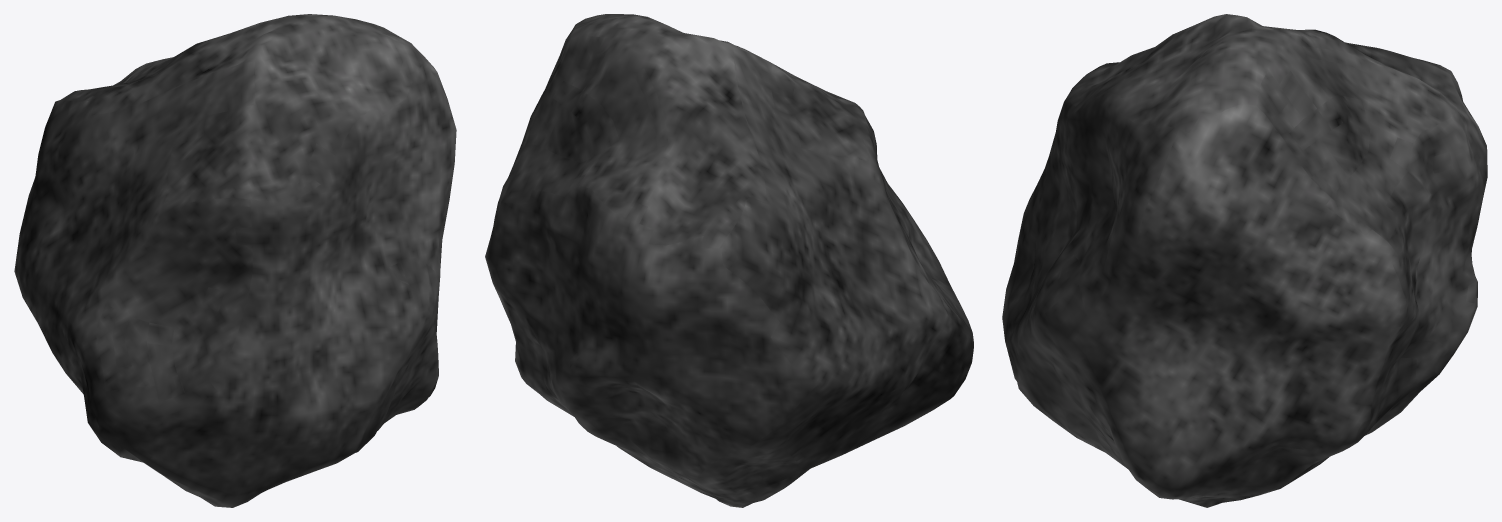
Rendered from asteroid_5.glb.
The picture shows the model from 3 angles, left to right: view 1: azimuth 30°, elevation 25°; view 2: azimuth 150°, elevation 25°; view 3: azimuth 270°, elevation 25°; orthographic projection. The views are drawn at different scales.
Parts seen in each view (by area): view 1: asteroid_5; view 2: asteroid_5; view 3: asteroid_5.
Boxes of the visible parts, bbox=[...] form: asteroid_5: bbox=[14, 14, 456, 507]; asteroid_5: bbox=[485, 14, 973, 507]; asteroid_5: bbox=[1002, 14, 1487, 507].
Bounding box in the file's own units: 1.54 × 1.74 × 1.54.
1 material, 1 textured.
